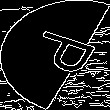P_SE: (13, 28, 97, 82)
